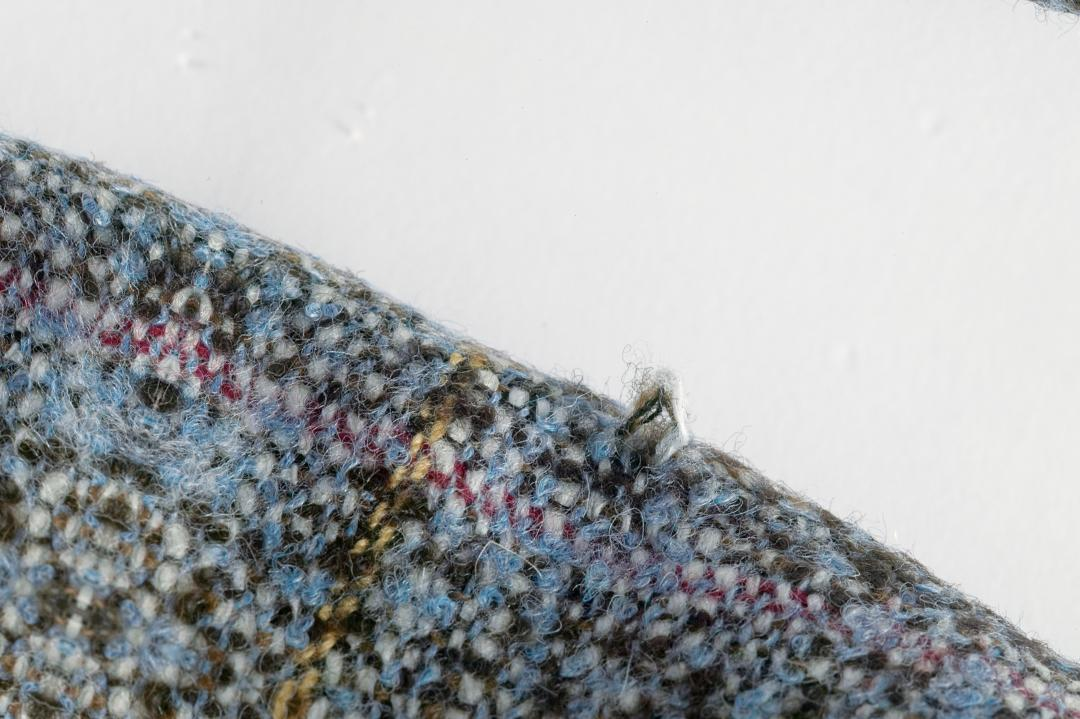snag: (612, 359, 702, 465)
